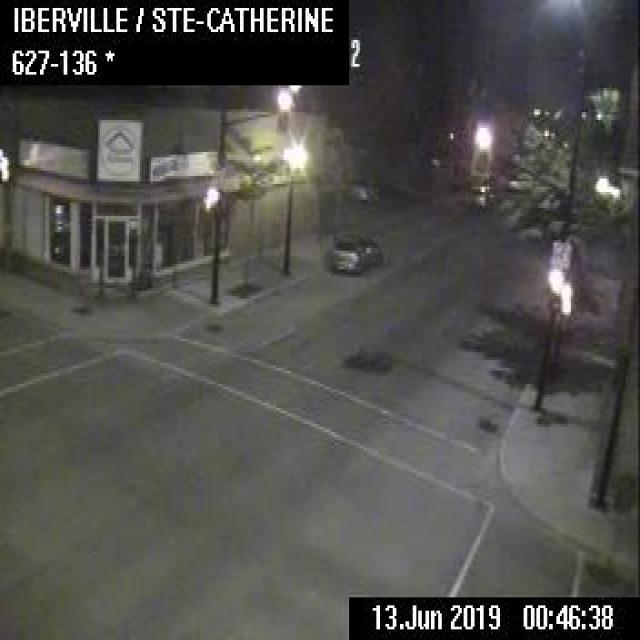vehicle: (331, 227, 380, 272), (463, 182, 492, 214), (351, 176, 377, 208)
